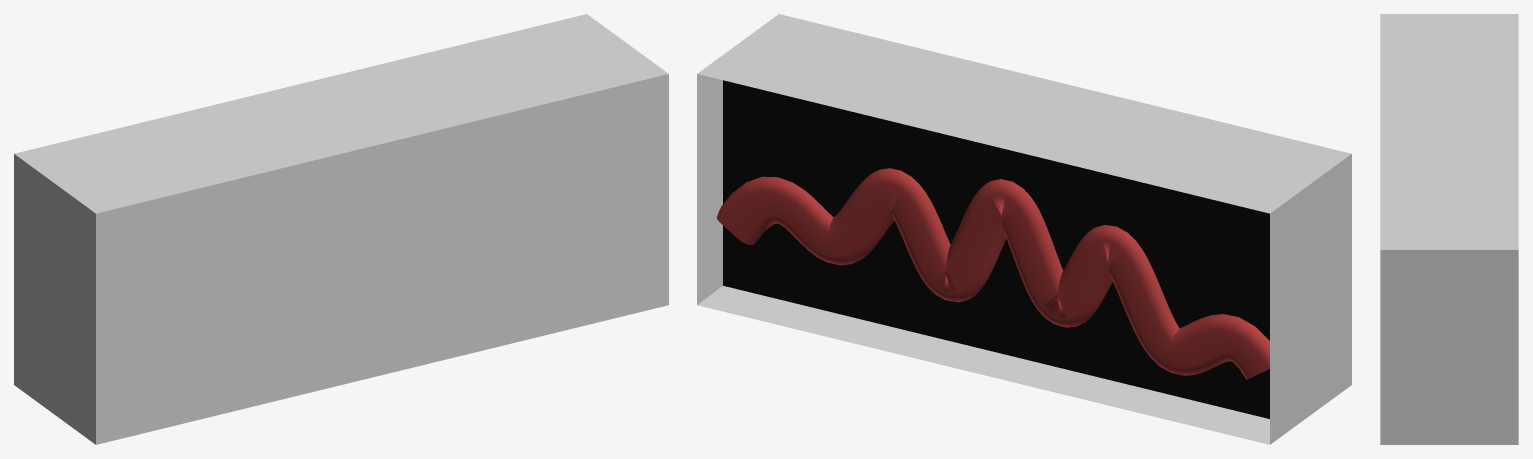
The model's file is CopenHagen.glb.
3 views of the same model, side by side, from view 1: azimuth 30°, elevation 25°; view 2: azimuth 150°, elevation 25°; view 3: azimuth 270°, elevation 25° (orthographic). The views are drawn at different scales.
Visible parts, largest first — view 1: Moniter; view 2: Moniter, Interference; view 3: Moniter.
Boxes of the visible parts, x1,y1,x2,y2 form: Moniter: (14, 14, 668, 444); Moniter: (697, 14, 1351, 444); Interference: (716, 168, 1269, 379); Moniter: (1380, 14, 1518, 444).
Bounding box in the file's own units: 10.35 × 3.99 × 2.56.
